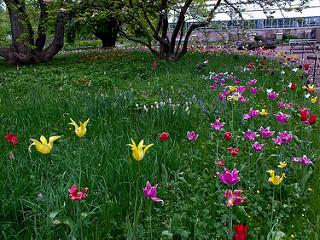tulip: (127, 139, 153, 161), (28, 134, 59, 152), (143, 181, 164, 201), (68, 117, 89, 135), (218, 168, 241, 184), (265, 170, 285, 184)
